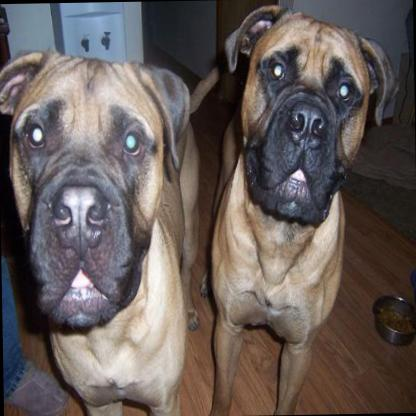bull_mastiff: (200, 0, 404, 414), (0, 42, 206, 416)
